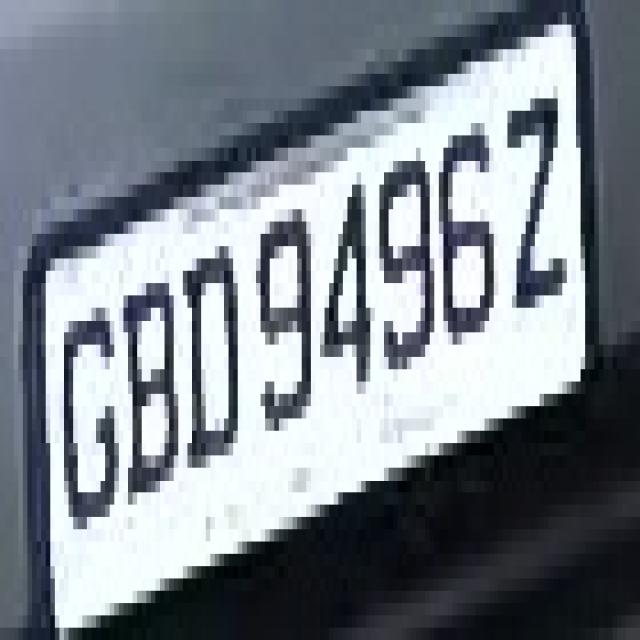4: (311, 160, 379, 443)
6: (430, 86, 498, 394)
9: (242, 160, 316, 455), (366, 123, 439, 419)
B: (110, 234, 178, 529)
D: (169, 221, 252, 517)
G: (50, 259, 119, 566)
Z: (489, 61, 572, 357)
